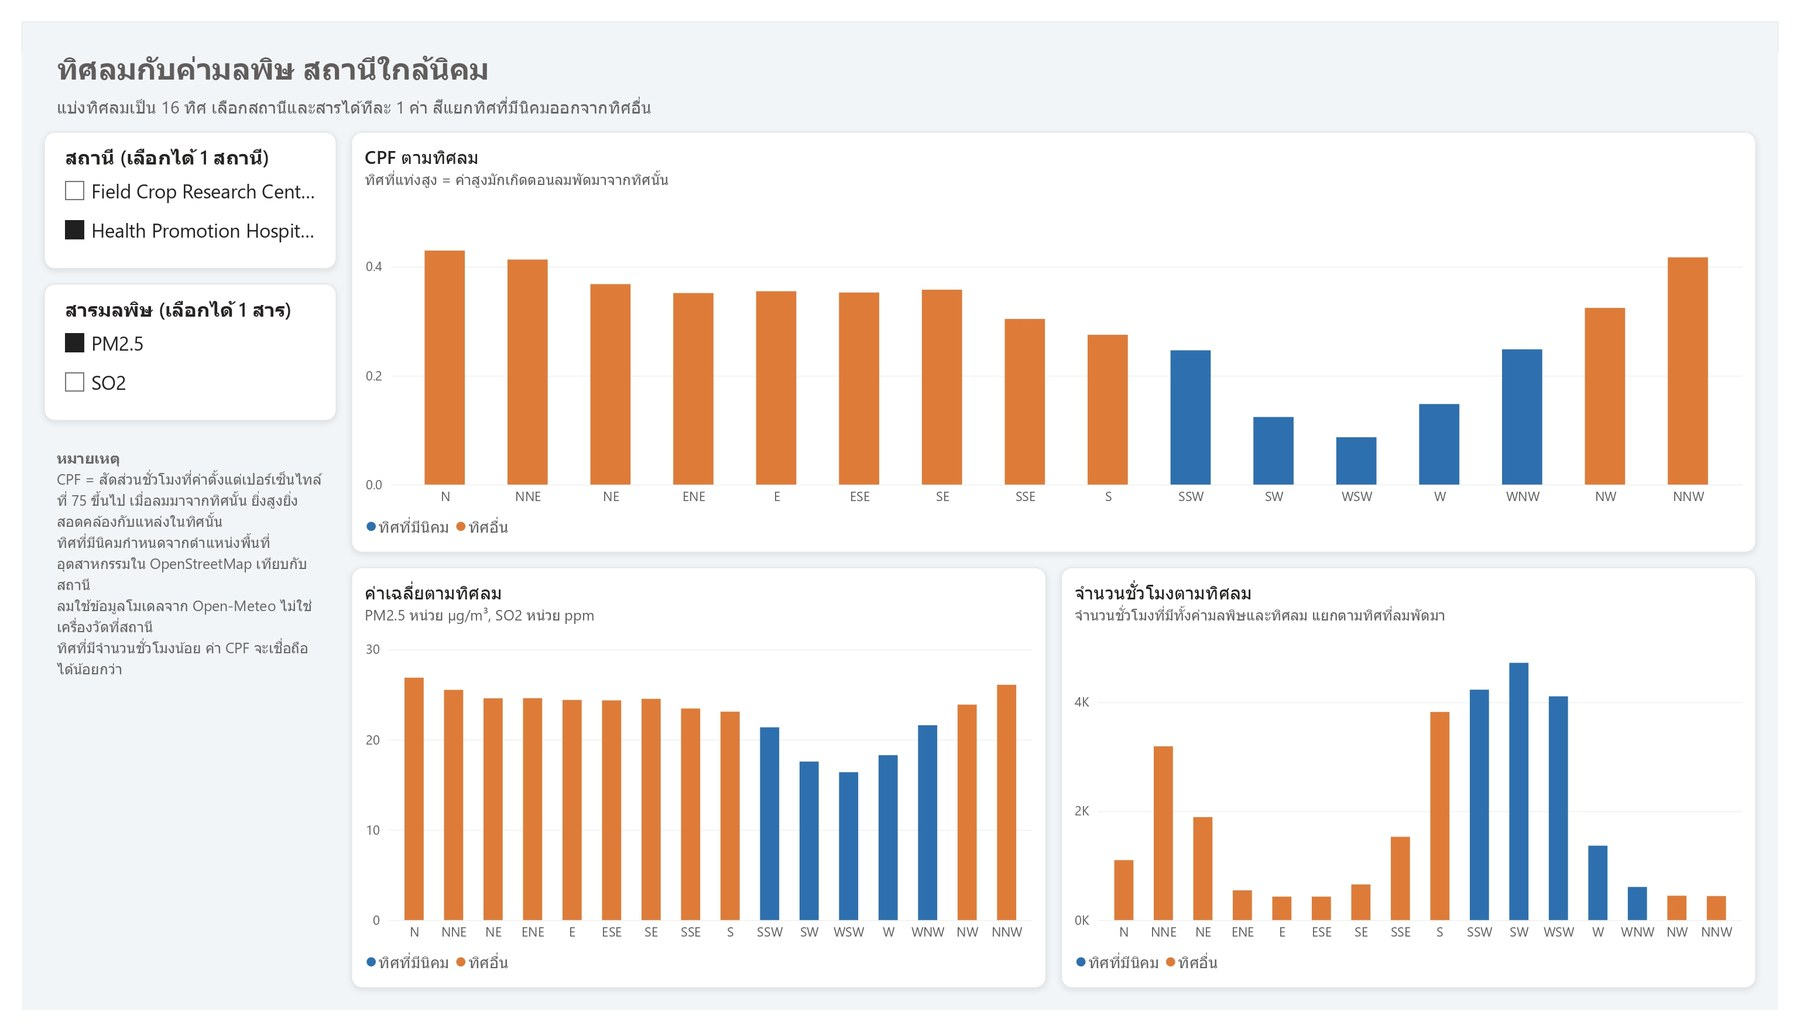

This screenshot's page, from the dashboard's own definition file:
{"tool":"powerbi","page":{"name":"ทิศลม","canvas":[1920,1080],"ordinal":3},"visuals":[{"type":"textbox","box":[24,16,1872,72],"z":1000},{"type":"textbox","box":[24,68,1872,52],"z":2000},{"type":"slicer","fields":{"Values":["wind_sectors.station_name"]},"box":[24,120,320,150],"z":3000},{"type":"slicer","fields":{"Values":["wind_sectors.pollutant_name"]},"box":[24,286,320,150],"z":4000},{"type":"textbox","box":[24,452,320,604],"z":5000},{"type":"columnChart","title":"CPF ตามทิศลม","fields":{"Category":["wind_sectors.direction"],"Series":["wind_sectors.กลุ่มทิศ"],"Y":["wind_sectors.CPF เฉลี่ย"]},"box":[360,120,1536,460],"z":6000},{"type":"columnChart","title":"ค่าเฉลี่ยตามทิศลม","fields":{"Category":["wind_sectors.direction"],"Series":["wind_sectors.กลุ่มทิศ"],"Y":["wind_sectors.ค่าเฉลี่ยตามทิศ"]},"box":[360,596,760,460],"z":7000},{"type":"columnChart","title":"จำนวนชั่วโมงตามทิศลม","fields":{"Category":["wind_sectors.direction"],"Series":["wind_sectors.กลุ่มทิศ"],"Y":["wind_sectors.จำนวนชั่วโมงตามทิศ"]},"box":[1136,596,760,460],"z":8000}]}

Visuals, with their boxes in screenshot pixels (x1, y1, x2, y2), scaled from the page's 1920x1080 canvas onto the 1800x1032 screenshot:
textbox: [x1=22, y1=15, x2=1778, y2=84]
textbox: [x1=22, y1=65, x2=1778, y2=115]
slicer - wind_sectors.station_name: [x1=22, y1=115, x2=322, y2=258]
slicer - wind_sectors.pollutant_name: [x1=22, y1=273, x2=322, y2=417]
textbox: [x1=22, y1=432, x2=322, y2=1009]
"CPF ตามทิศลม" columnChart: [x1=338, y1=115, x2=1778, y2=554]
"ค่าเฉลี่ยตามทิศลม" columnChart: [x1=338, y1=570, x2=1050, y2=1009]
"จำนวนชั่วโมงตามทิศลม" columnChart: [x1=1065, y1=570, x2=1778, y2=1009]
